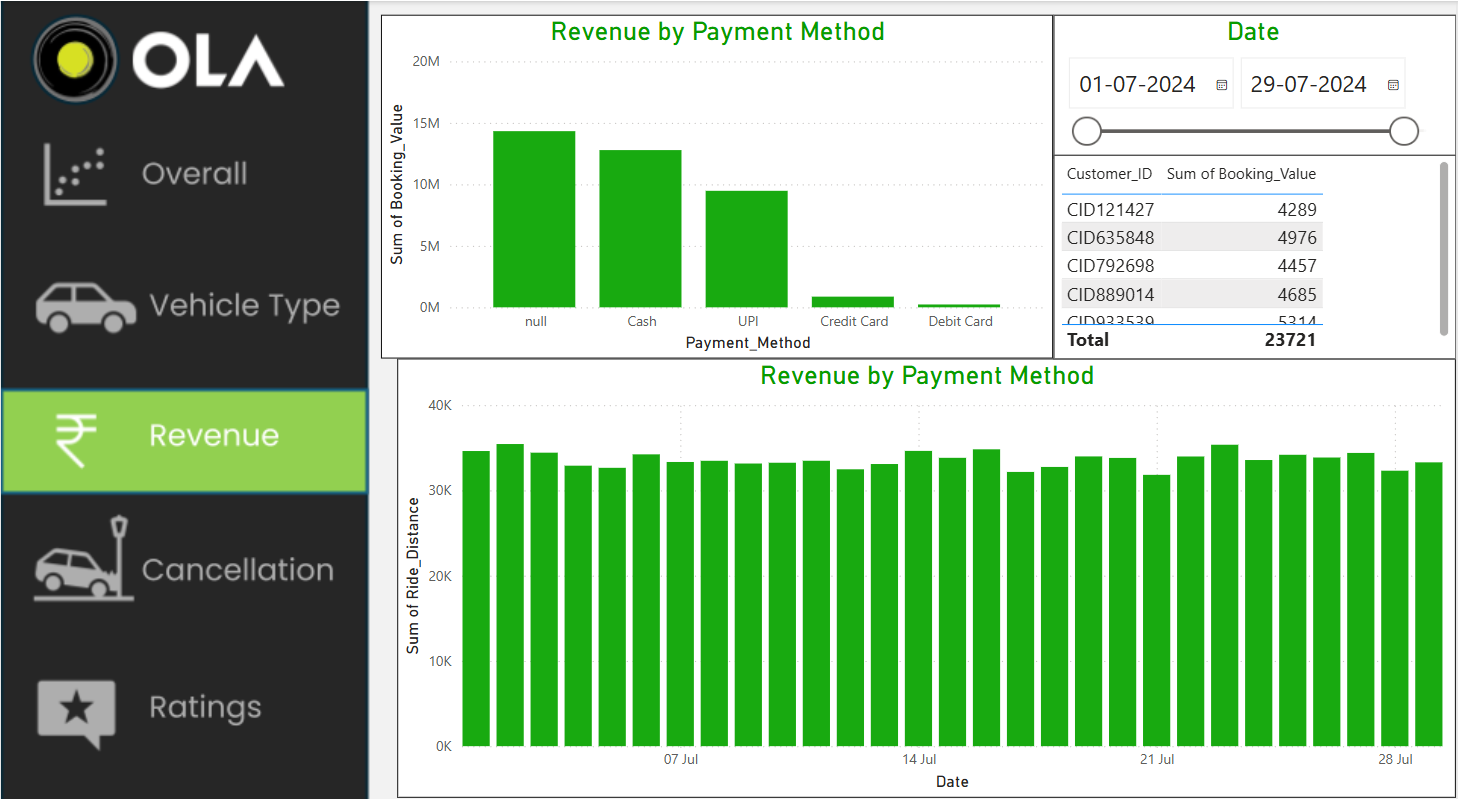

The page's visual inventory and layout, read from the dashboard file:
{"tool":"powerbi","page":{"name":"Revenue","canvas":[1280,720],"ordinal":2},"visuals":[{"type":"actionButton","box":[162.1,261.7,238.9,66.8],"z":0},{"type":"actionButton","box":[0,463.6,325.7,76.8],"z":1},{"type":"actionButton","box":[0,236.1,325.7,59.7],"z":2},{"type":"actionButton","box":[0,590.2,325.7,78.2],"z":3},{"type":"columnChart","title":"Revenue by Payment Method","fields":{"Category":["July.Payment_Method"],"Y":["Sum(July.Booking_Value)"]},"box":[334.6,12.5,590.9,302.6],"z":4},{"type":"columnChart","title":"Revenue by Payment Method","fields":{"Y":["Sum(July.Ride_Distance)"],"Category":["July.Date"]},"box":[348.8,315,930.8,386.2],"z":5},{"type":"slicer","title":"Date","fields":{"Values":["July.Date"]},"box":[925.5,12.5,354.2,126.4],"z":6},{"type":"tableEx","fields":{"Values":["July.Customer_ID","Sum(July.Booking_Value)"]},"box":[925.5,135.3,354.2,179.8],"z":7}]}

Visuals, with their boxes in screenshot pixels (x1, y1, x2, y2), scaled from the page's 1280x720 canvas onto the 1458x799 screenshot:
actionButton: 185, 290, 457, 365
actionButton: 0, 514, 371, 600
actionButton: 0, 262, 371, 328
actionButton: 0, 655, 371, 742
"Revenue by Payment Method" columnChart: 381, 14, 1054, 350
"Revenue by Payment Method" columnChart: 397, 350, 1457, 778
"Date" slicer: 1054, 14, 1457, 154
tableEx - July.Customer_ID x Sum(July.Booking_Value): 1054, 150, 1457, 350
